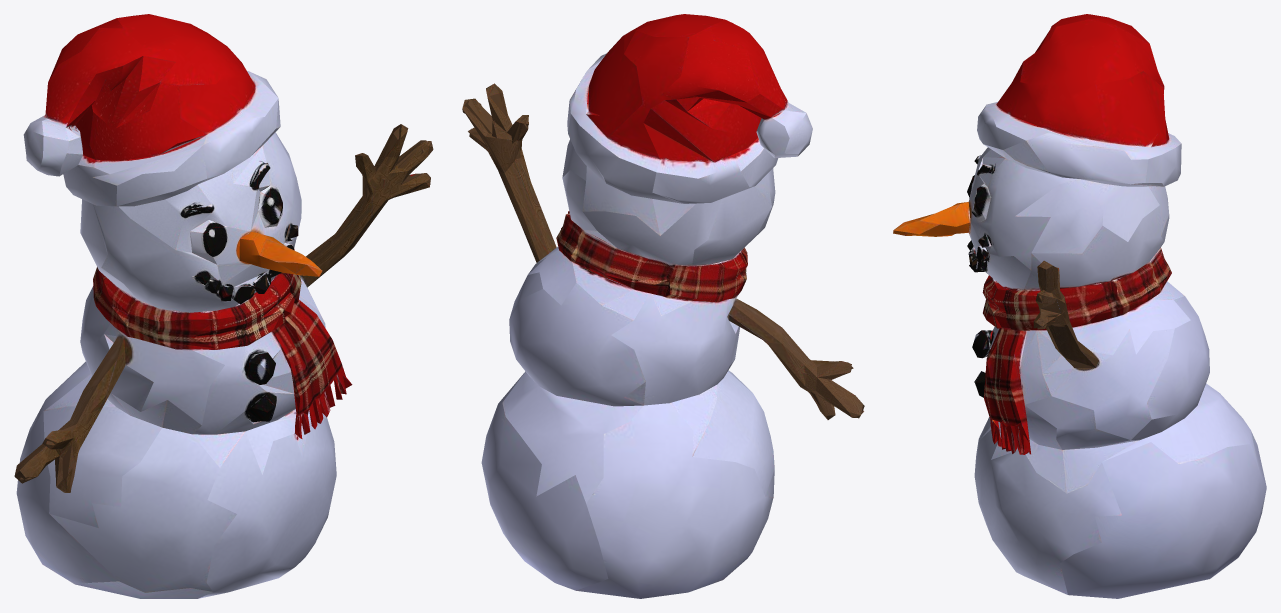
Rendered from snowman2.glb.
The picture shows the model from 3 angles, left to right: view 1: azimuth 30°, elevation 25°; view 2: azimuth 150°, elevation 25°; view 3: azimuth 270°, elevation 25°; orthographic projection. The views are drawn at different scales.
Parts seen in each view (by area): view 1: output_unwrapped; view 2: output_unwrapped; view 3: output_unwrapped.
Part boxes in pixels (bbox=[...]): output_unwrapped: bbox=[14, 14, 433, 598]; output_unwrapped: bbox=[462, 14, 864, 598]; output_unwrapped: bbox=[893, 14, 1266, 598].
Size of the model in its own units: 1.51 by 1.9 by 1.28.
1 material, 1 textured.
